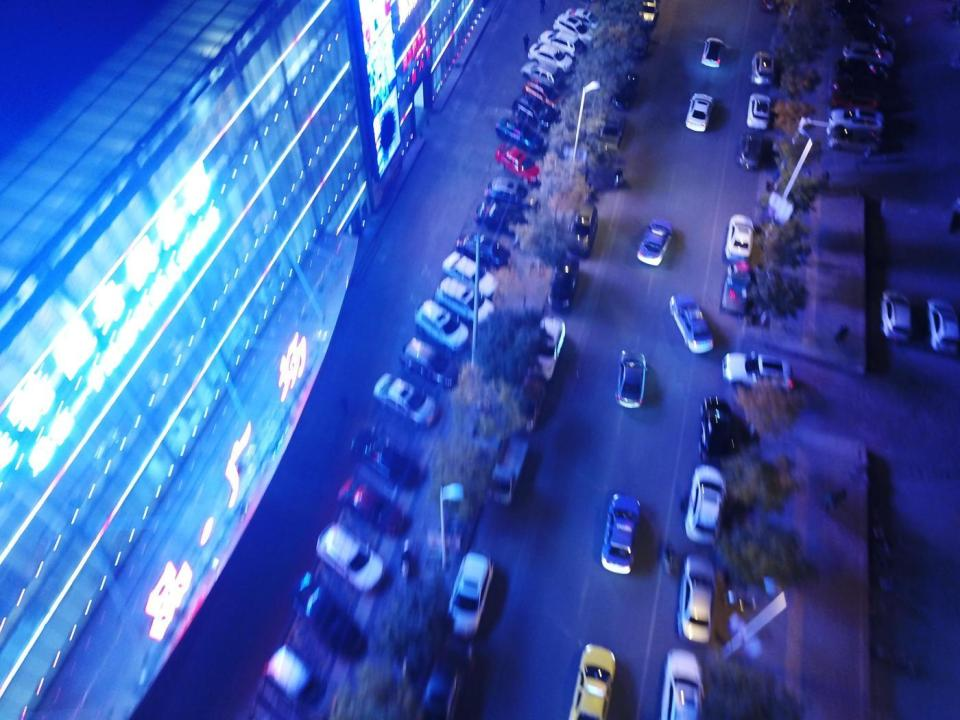car: (290, 572, 367, 655), (417, 638, 476, 720), (314, 523, 384, 591), (352, 428, 422, 489), (445, 552, 492, 638), (338, 474, 406, 532), (566, 644, 616, 720), (372, 372, 440, 425), (657, 647, 703, 720), (722, 351, 793, 395), (600, 493, 638, 573), (679, 554, 713, 643), (401, 337, 460, 388), (684, 464, 722, 543), (415, 299, 469, 350), (524, 315, 564, 382), (441, 250, 497, 297), (670, 294, 714, 353), (700, 396, 736, 466), (506, 375, 545, 433), (495, 116, 545, 156), (455, 232, 509, 269), (473, 201, 530, 236), (484, 176, 540, 211), (927, 297, 960, 356), (496, 144, 541, 184), (635, 217, 671, 266), (880, 290, 912, 342), (617, 350, 645, 408), (828, 125, 879, 155), (568, 202, 597, 254), (546, 257, 576, 307), (514, 96, 558, 129), (726, 214, 755, 264), (830, 107, 884, 133), (836, 58, 886, 85), (528, 42, 570, 74), (842, 42, 893, 68), (521, 61, 563, 91), (540, 30, 586, 57), (684, 92, 713, 132), (524, 80, 564, 107), (833, 80, 881, 102), (851, 29, 898, 51), (830, 95, 878, 116), (555, 15, 589, 42), (736, 134, 762, 169), (599, 115, 623, 152), (746, 93, 769, 130), (612, 72, 634, 110), (565, 8, 601, 31), (750, 51, 774, 84), (701, 37, 725, 67), (848, 16, 884, 36), (832, 4, 875, 20), (626, 27, 648, 57), (636, 1, 658, 25)
truck: (486, 430, 530, 506), (724, 257, 750, 314)
van: (263, 646, 347, 716), (437, 278, 497, 327)
